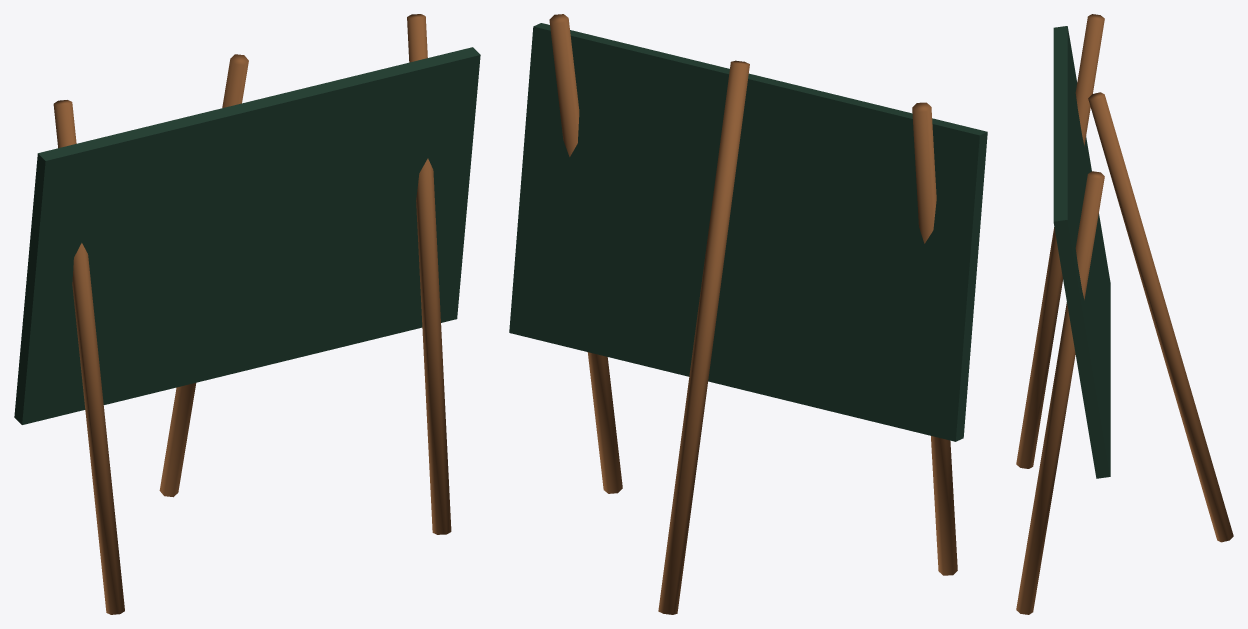
Rendered from prop_papan_tulis.glb.
3 renders of one model, left to right at view 1: azimuth 30°, elevation 25°; view 2: azimuth 150°, elevation 25°; view 3: azimuth 270°, elevation 25°, orthographic. The views are drawn at different scales.
Visible parts, largest first — view 1: papan_tulis; view 2: papan_tulis; view 3: papan_tulis.
Boxes of the visible parts, bbox=[...] form: papan_tulis: bbox=[14, 14, 480, 614]; papan_tulis: bbox=[509, 14, 987, 614]; papan_tulis: bbox=[1016, 14, 1233, 614].
Bounding box in the file's own units: 1.6 × 1.72 × 0.7587.
